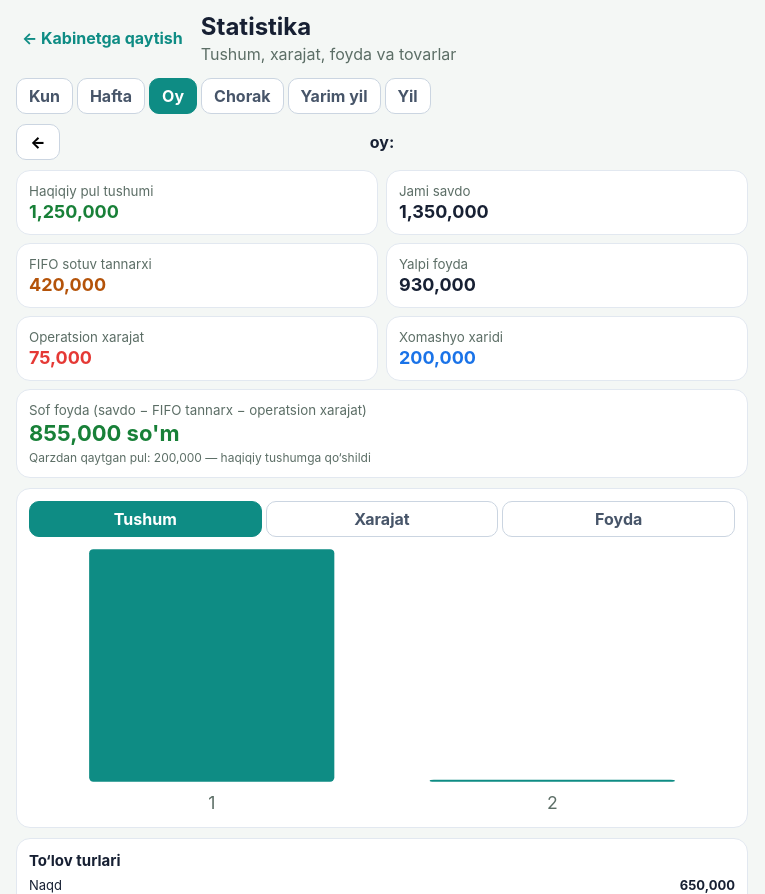
Test: Statistics › does not apply delayed navigation after the period changes
This screenshot has width=765, height=894.
expect the text "oy:" is shown: met, box [370,132,394,152]
Click the button named "Oldingi davr" at (38, 142), box [16,124,60,160]
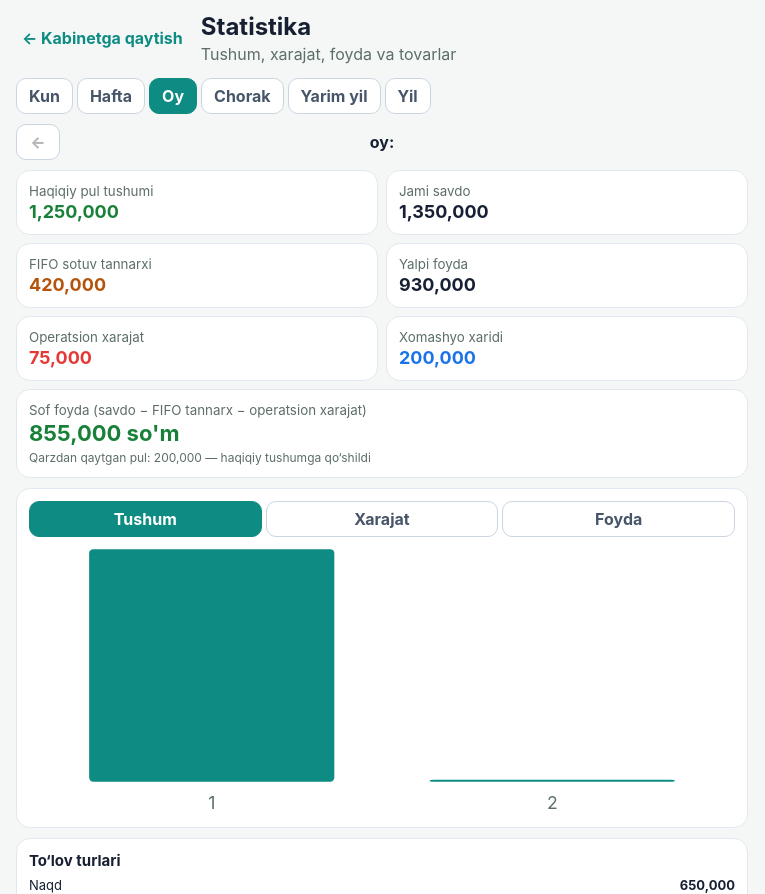
Click the button "Kun" at (44, 96), box [16,78,73,114]
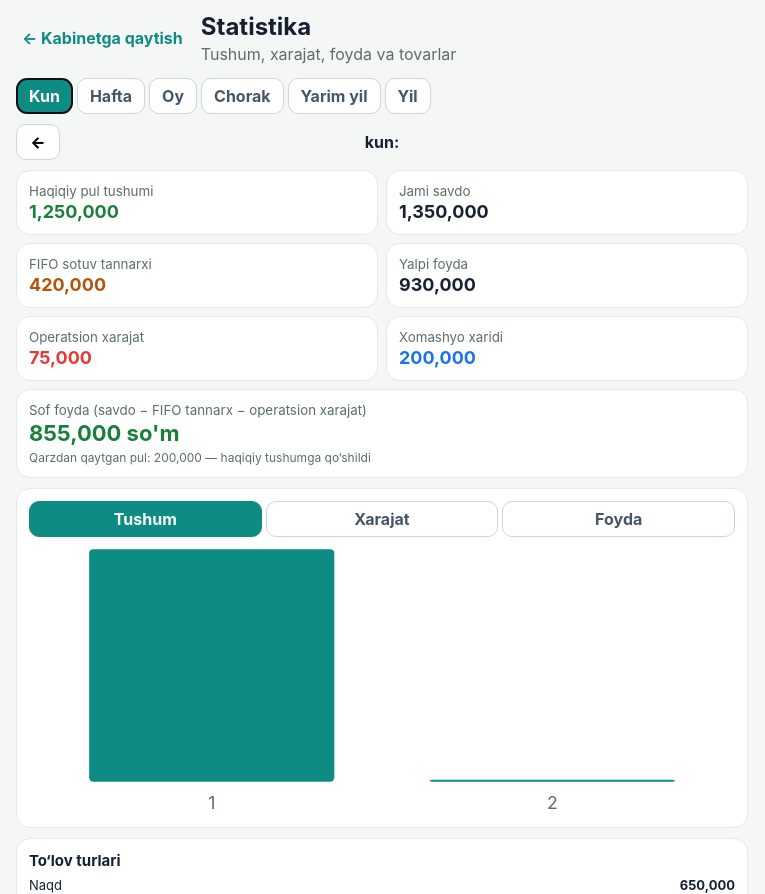
expect the text "kun:" is shown: met, box [365,132,399,152]
